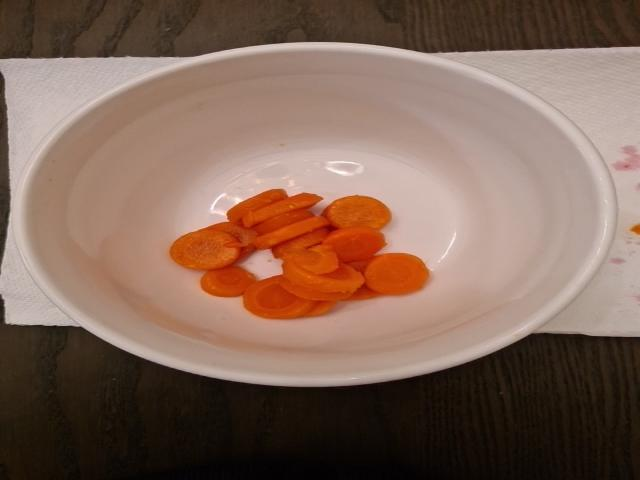kichen waste: (170, 190, 431, 320)
